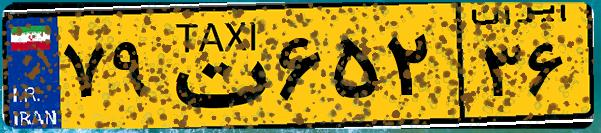2: (385, 28, 445, 110)
3: (475, 38, 525, 113)
5: (330, 28, 385, 110)
6: (270, 28, 330, 110), (525, 38, 570, 115)
7: (57, 26, 110, 100)
9: (110, 28, 158, 98)
ت: (158, 12, 270, 120)
